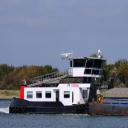tugboat: (9, 49, 116, 118)
